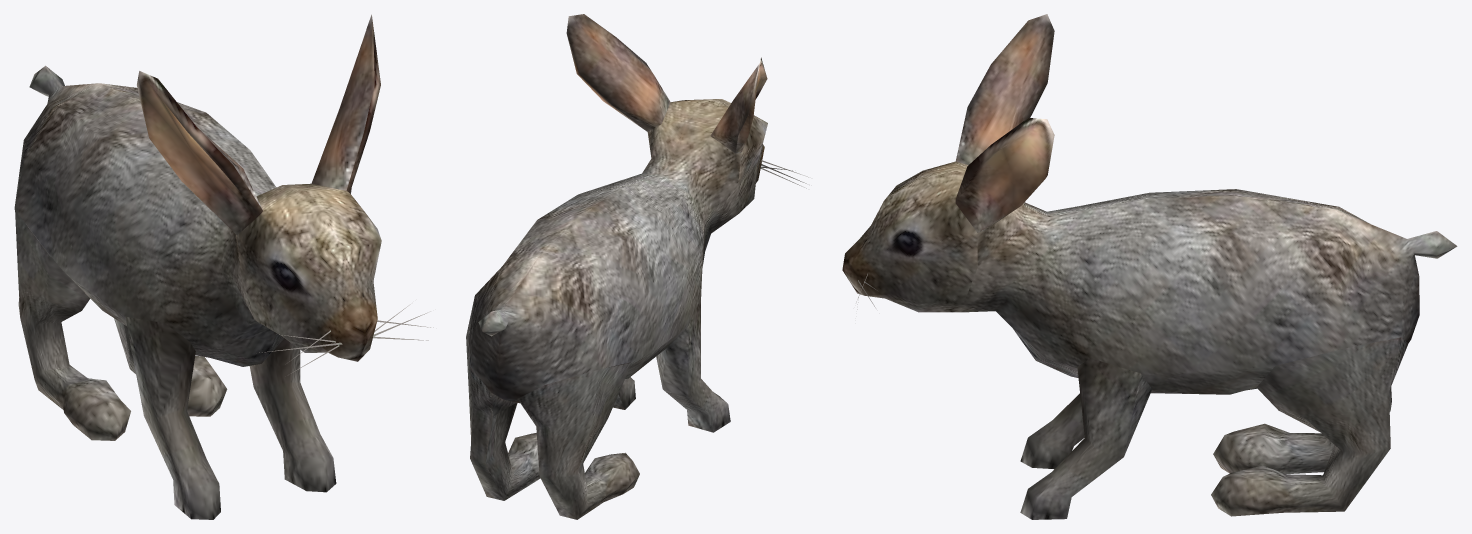
Rendered from conejo.fbx.
3 views of the same model, side by side, from view 1: azimuth 30°, elevation 25°; view 2: azimuth 150°, elevation 25°; view 3: azimuth 270°, elevation 25° (orthographic). The views are drawn at different scales.
Parts seen in each view (by area): view 1: Box01, Pata trasera D, Pata delantera D, Pata delantera I, Pata trasera I; view 2: Box01, Pata trasera D, Pata trasera I, Pata delantera D, Pata delantera I; view 3: Box01, Pata trasera I, Pata delantera I, Pata trasera D, Pata delantera D.
Part boxes in pixels (x1=…): Box01: x1=14, y1=14, x2=433, y2=373; Pata trasera D: x1=15, y1=210, x2=130, y2=440; Pata delantera D: x1=125, y1=316, x2=220, y2=519; Pata delantera I: x1=249, y1=338, x2=336, y2=492; Pata trasera I: x1=114, y1=318, x2=227, y2=416; Box01: x1=466, y1=14, x2=808, y2=403; Pata trasera D: x1=517, y1=363, x2=639, y2=519; Pata trasera I: x1=466, y1=338, x2=540, y2=500; Pata delantera D: x1=656, y1=299, x2=730, y2=432; Pata delantera I: x1=613, y1=377, x2=635, y2=409; Box01: x1=842, y1=14, x2=1457, y2=394; Pata trasera I: x1=1211, y1=337, x2=1408, y2=516; Pata delantera I: x1=1020, y1=358, x2=1152, y2=519; Pata trasera D: x1=1213, y1=387, x2=1391, y2=473; Pata delantera D: x1=1020, y1=393, x2=1084, y2=469.
Bounding box in the file's own units: 24.48 × 45.86 × 60.45.
1 material, 1 textured.
